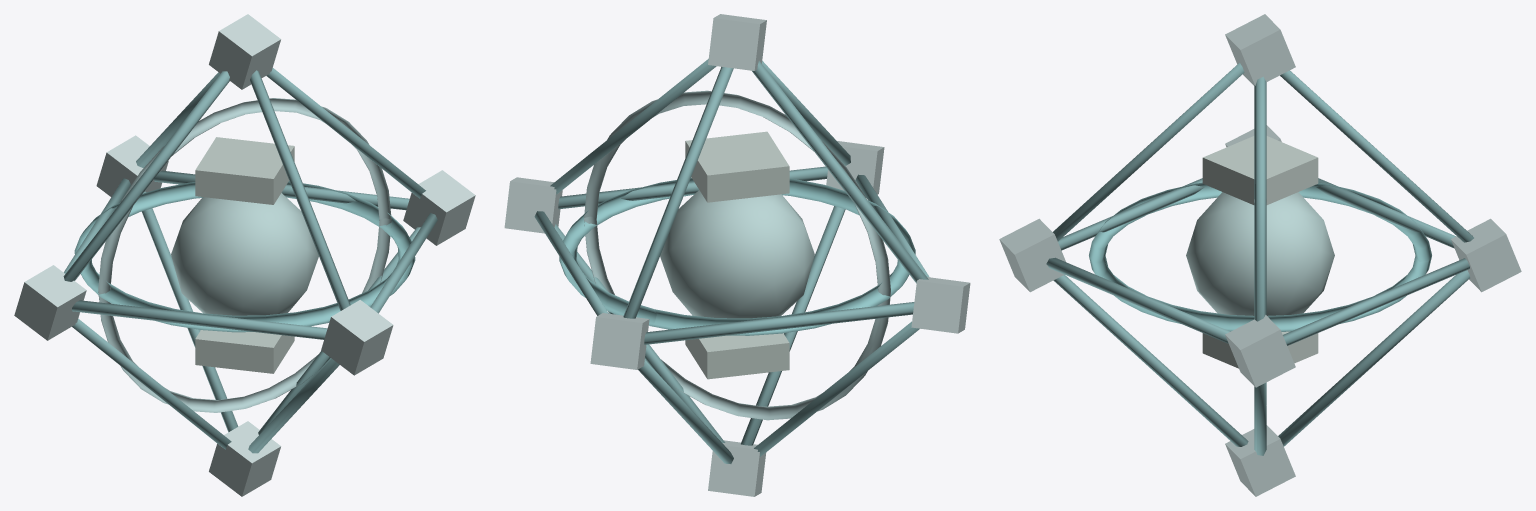
The model's file is ART-45.glb.
3 views of the same model, side by side, from view 1: azimuth 30°, elevation 25°; view 2: azimuth 150°, elevation 25°; view 3: azimuth 270°, elevation 25° (orthographic). The views are drawn at different scales.
Visible parts, largest first — view 1: world; view 2: world; view 3: world.
Boxes of the visible parts, x1,y1,x2,y2 form: world: (14, 14, 475, 496); world: (504, 14, 970, 496); world: (999, 14, 1521, 496).
Size of the model in its own units: 1.96 by 1.96 by 2.
